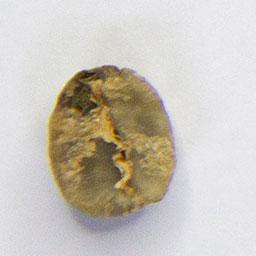defect: (43, 60, 181, 221)
